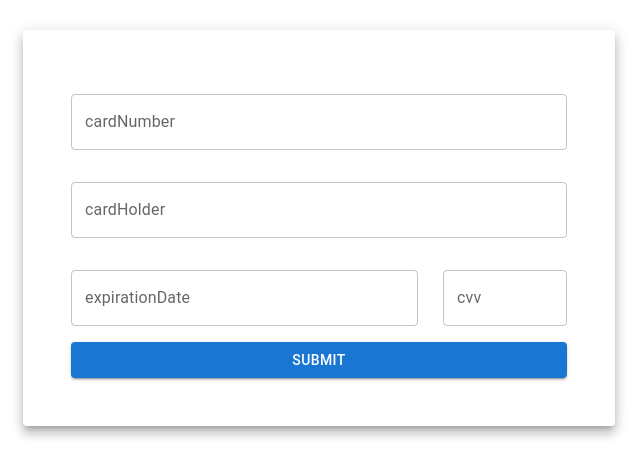
it: CreditCardForm › shows error message when credit card is expired
Type "3782 8224 6310 005" into the field labelled "cardNumber".
click(319, 122); type("3782 8224 6310 005")  # box [71,94,567,150]
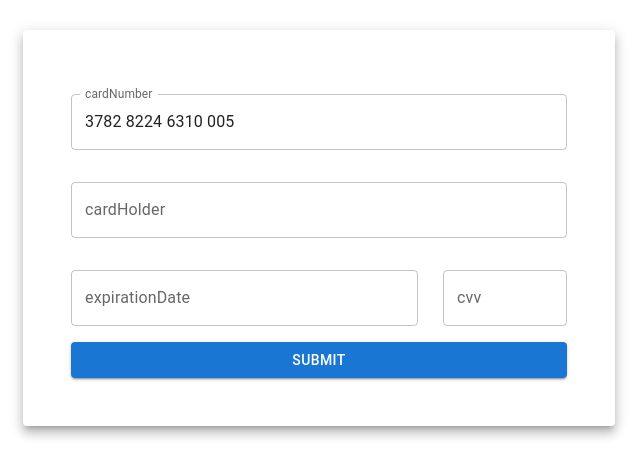
Type "John Doe" into the field labelled "cardHolder".
click(319, 210); type("John Doe")  # box [71,182,567,238]
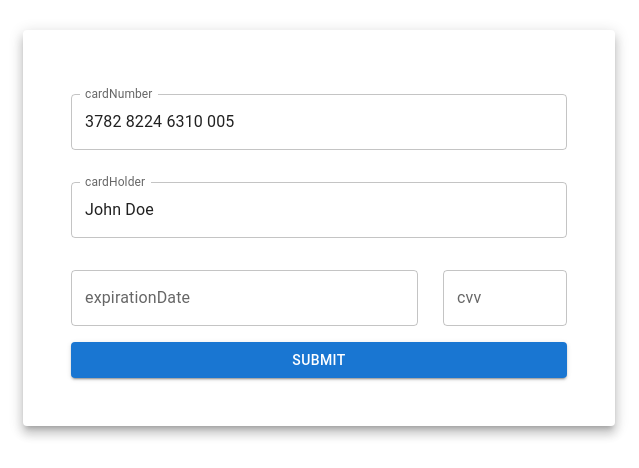
Type "12/20" into the field labelled "expirationDate".
click(245, 298); type("12/20")  # box [71,270,418,326]
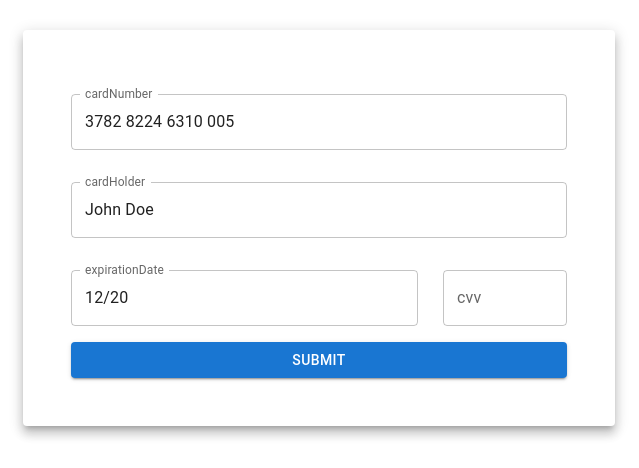
Type "123" into the field labelled "cvv".
click(505, 298); type("123")  # box [443,270,567,326]
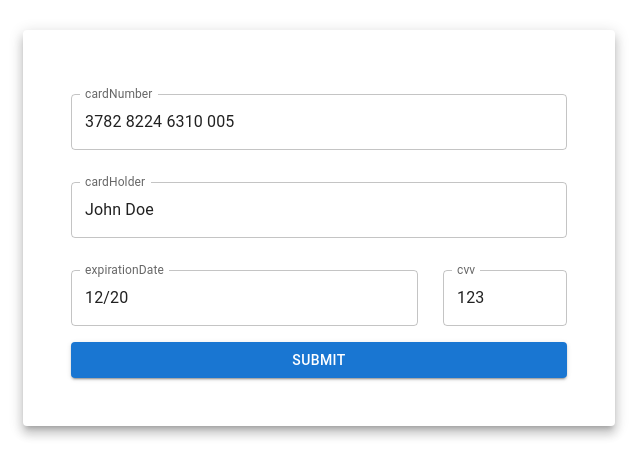
Click the button "submit".
click(319, 360)  # box [71,342,567,378]
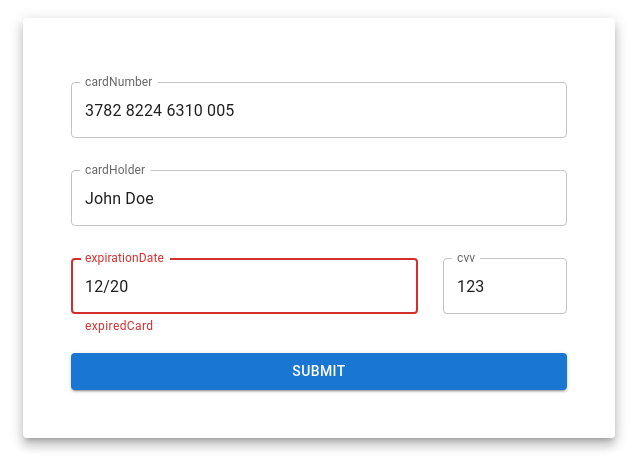
Expected: the text "expiredCard" is shown, [85,319,154,333]
